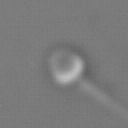normal: (80, 79, 128, 128)
